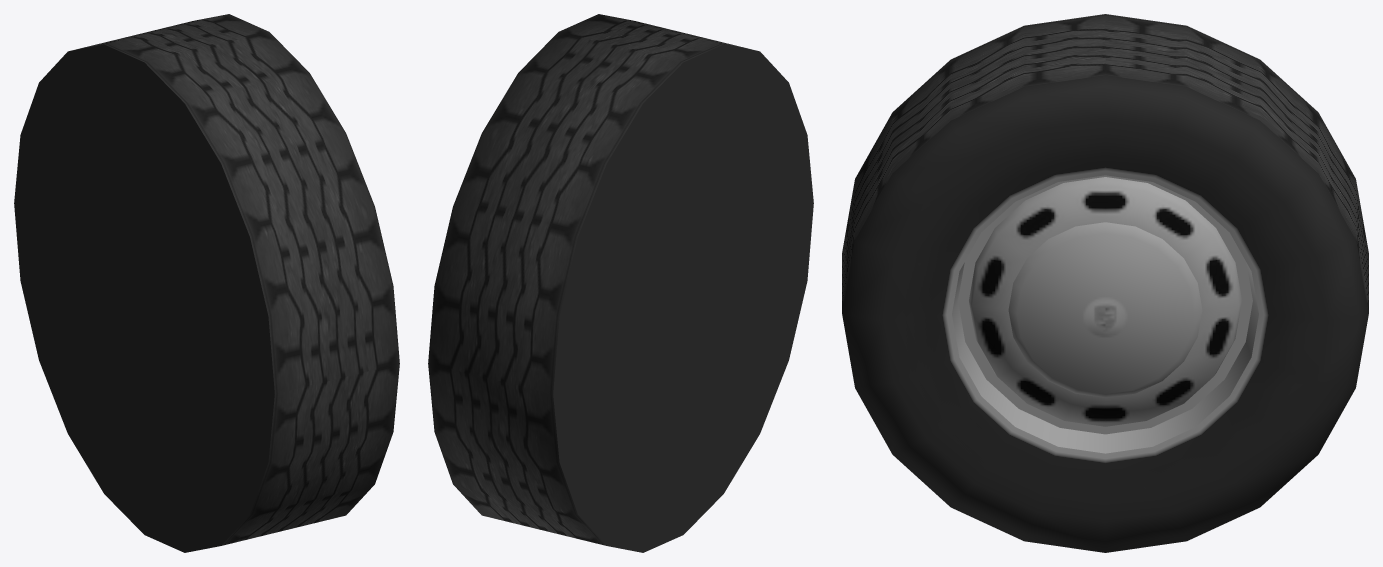
Rendered from porsche_911_24s_wheel_rear_right.glb.
The picture shows the model from 3 angles, left to right: view 1: azimuth 30°, elevation 25°; view 2: azimuth 150°, elevation 25°; view 3: azimuth 270°, elevation 25°; orthographic projection.
Visible parts, largest first — view 1: tire_rr; view 2: tire_rr; view 3: tire_rr.
Part boxes in pixels (box(x1,y1,x2,y2)): tire_rr: box(14, 14, 399, 552); tire_rr: box(428, 14, 813, 552); tire_rr: box(842, 14, 1368, 552).
Size of the model in its own units: 0.195 by 0.64 by 0.64.
Materials: 1 (1 with a texture image).
